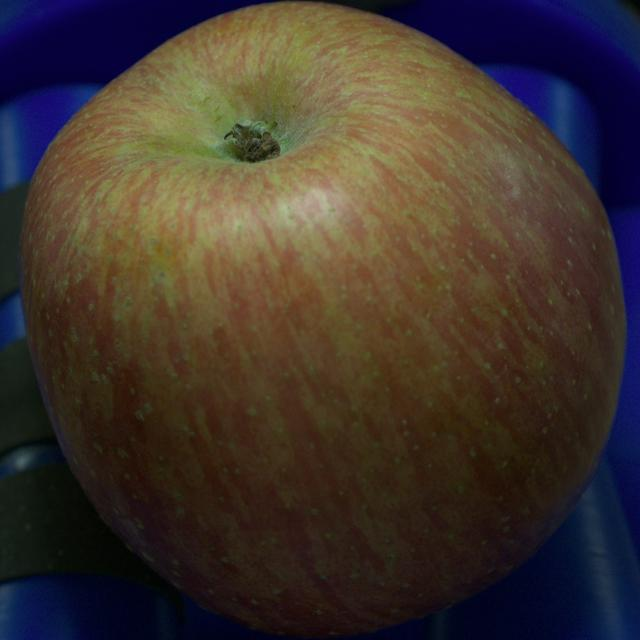apple: (20, 2, 626, 636)
